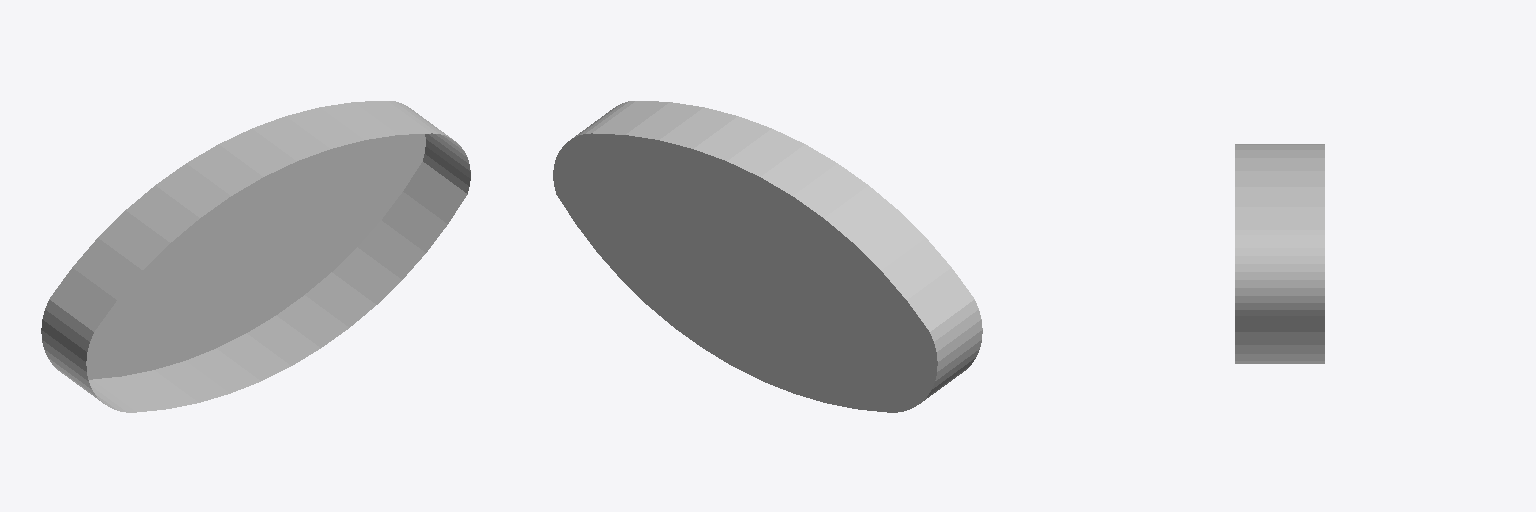
The model's file is original-19.obj.
3 views of the same model, side by side, from view 1: azimuth 30°, elevation 25°; view 2: azimuth 150°, elevation 25°; view 3: azimuth 270°, elevation 25° (orthographic).
Parts seen in each view (by area): view 1: #ID119; view 2: #ID119; view 3: #ID119.
Part boxes in pixels (x1,y1,x2,y2): #ID119: (41,101,470,412); #ID119: (553,101,982,412); #ID119: (1235,144,1324,363).
Size of the model in its own units: 0.1628 by 0.09 by 0.033.